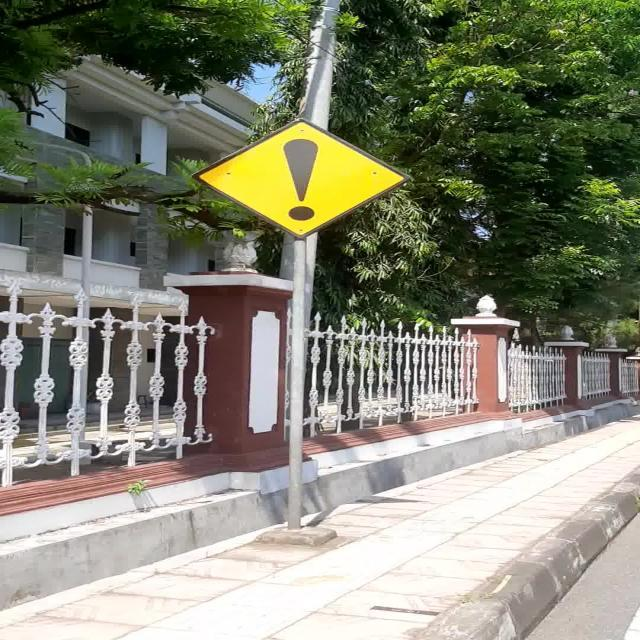Hati-Hati: (191, 117, 411, 238)
